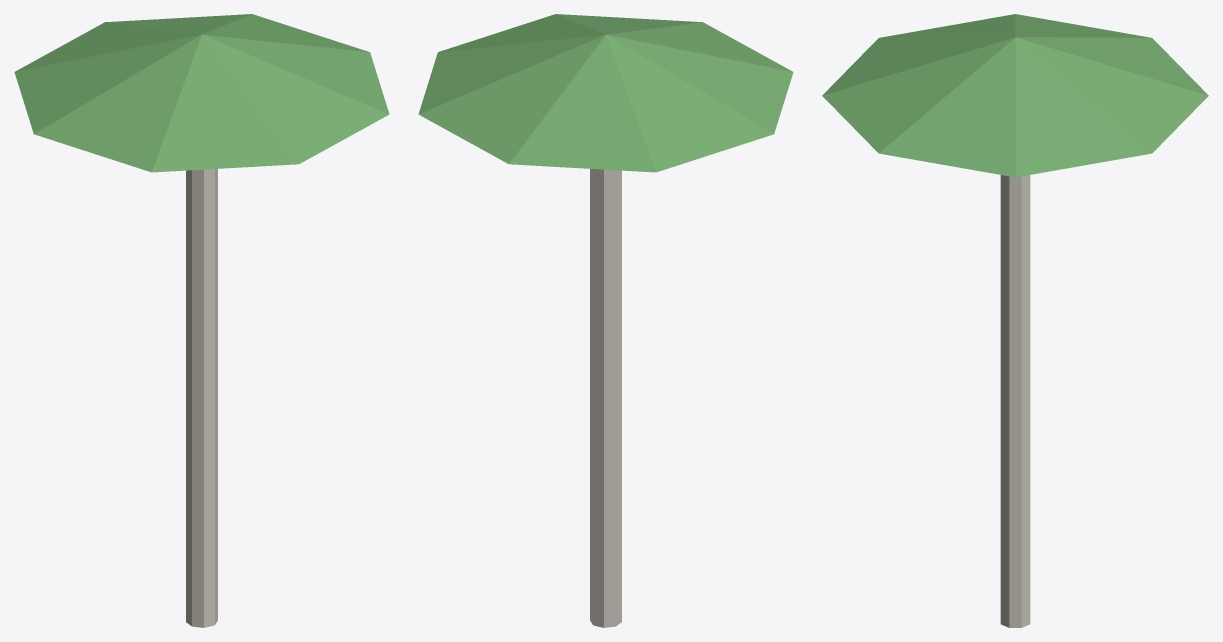
Rendered from SM_Blockout_PalmaSegnaposto.fbx.
3 views of the same model, side by side, from view 1: azimuth 30°, elevation 25°; view 2: azimuth 150°, elevation 25°; view 3: azimuth 270°, elevation 25° (orthographic).
Parts seen in each view (by area): view 1: SM_Blockout_PalmaSegnaposto; view 2: SM_Blockout_PalmaSegnaposto; view 3: SM_Blockout_PalmaSegnaposto.
Boxes of the visible parts, x1,y1,x2,y2 form: SM_Blockout_PalmaSegnaposto: [14, 14, 389, 627]; SM_Blockout_PalmaSegnaposto: [418, 14, 793, 627]; SM_Blockout_PalmaSegnaposto: [822, 14, 1208, 627].
Size of what is drawn, in the model's own units: 600 by 600 by 1000.
